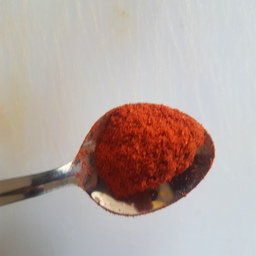Red chilli: (83, 97, 216, 208)
